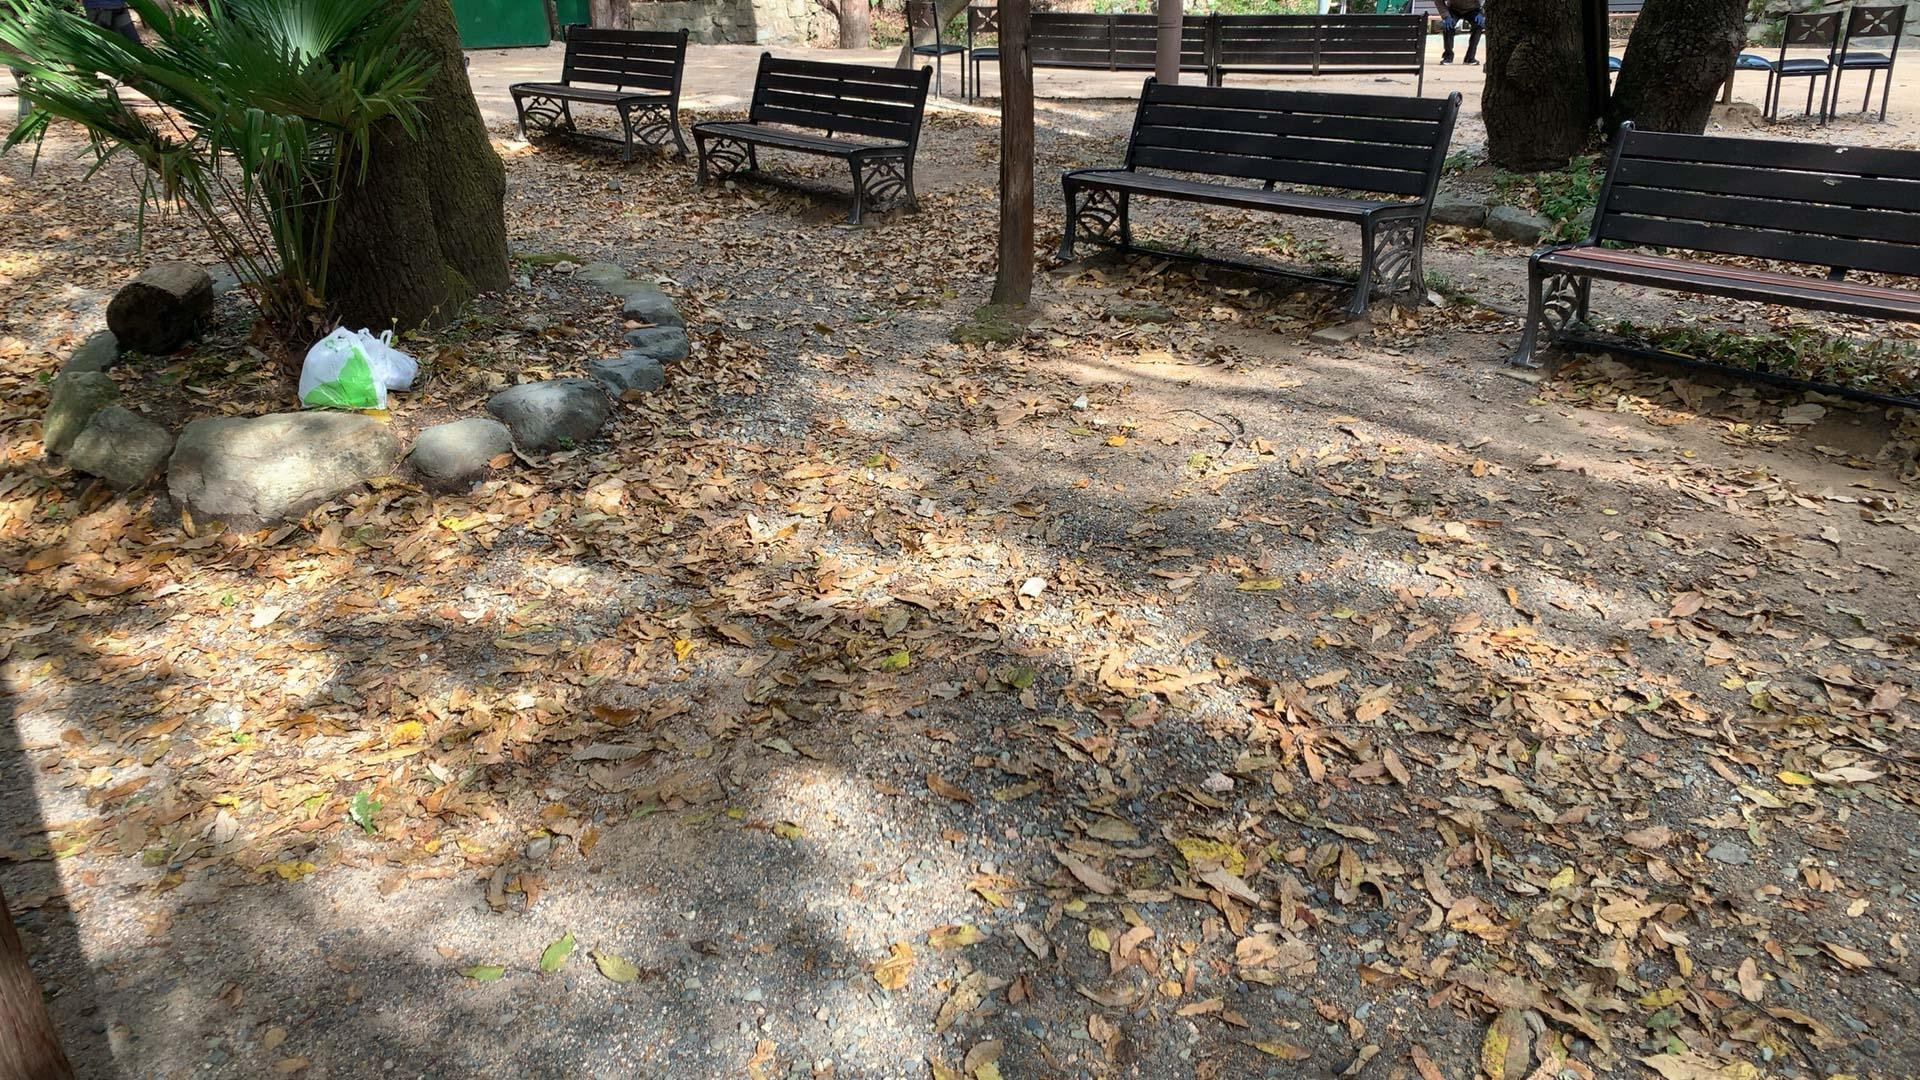white_bag: (289, 319, 396, 415), (352, 322, 419, 396)
